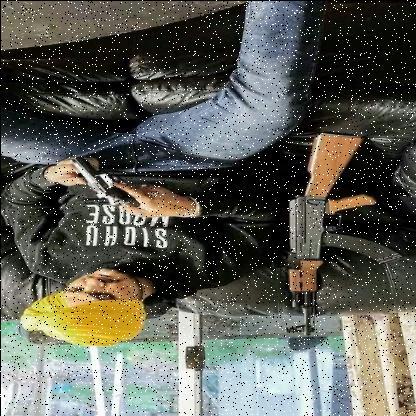rifle: (276, 127, 406, 338), (64, 154, 152, 209)
